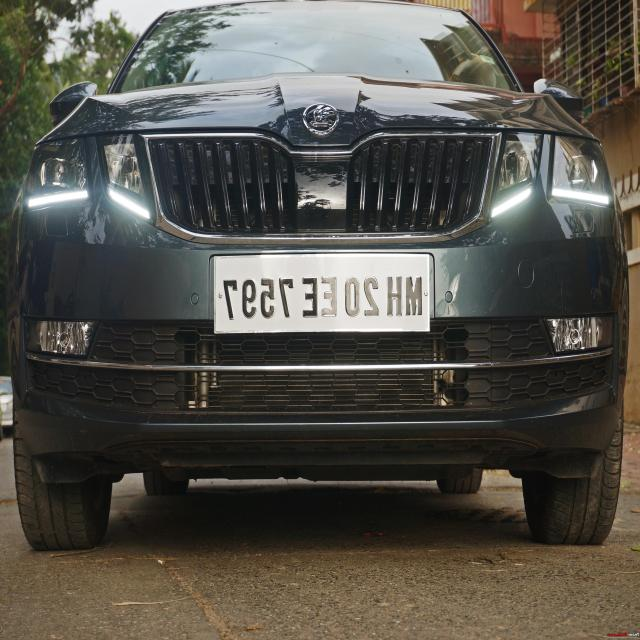number-plate: (197, 231, 447, 362)
